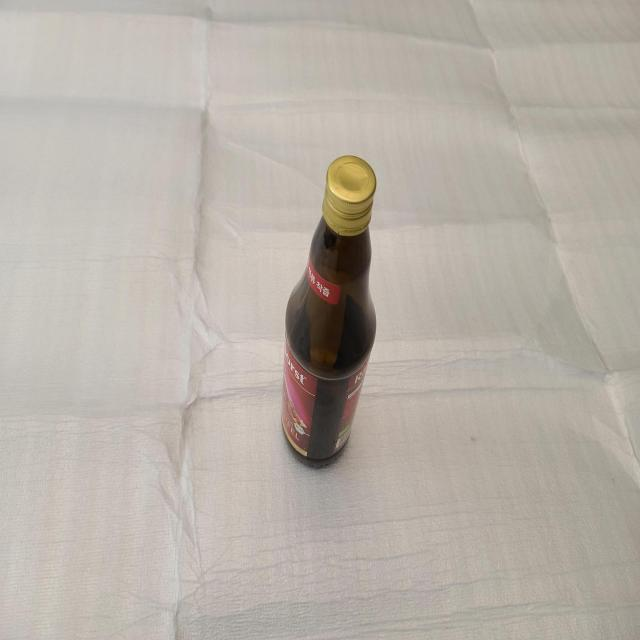glass: (282, 155, 377, 465)
